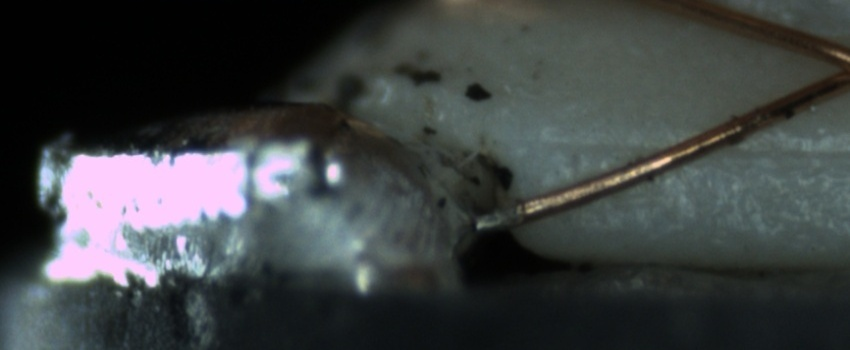CL: (804, 31, 849, 97)
DL: (539, 118, 850, 179)
TS: (471, 204, 515, 232)
